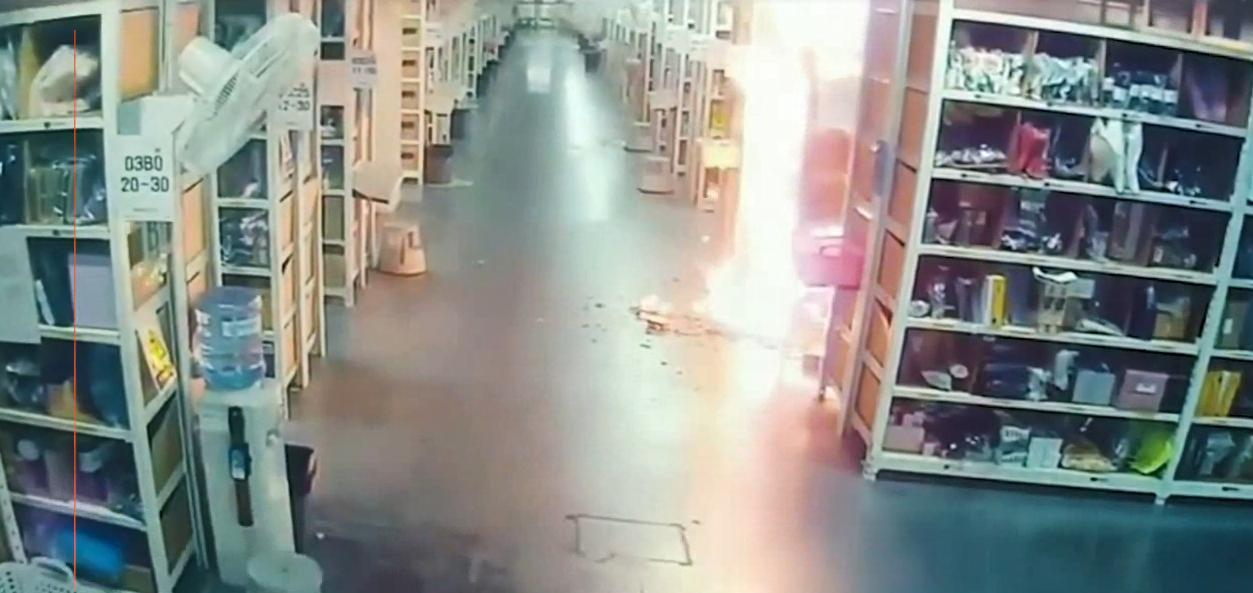fire: (696, 0, 865, 340)
